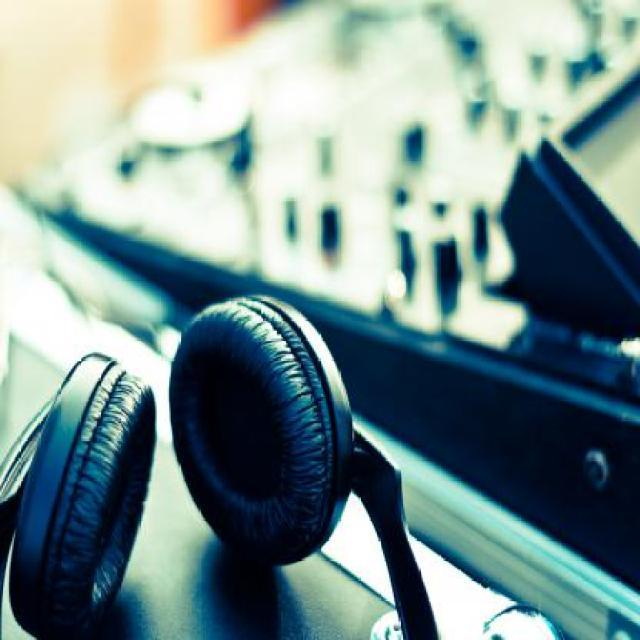earphone: (0, 251, 480, 640)
